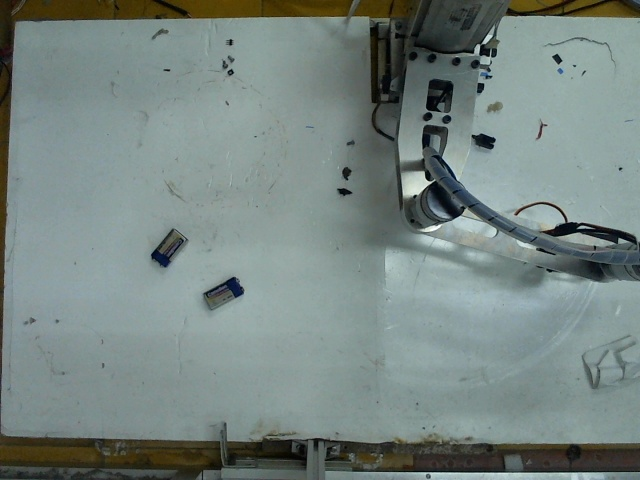battery: (201, 275, 246, 306), (153, 225, 187, 263)
